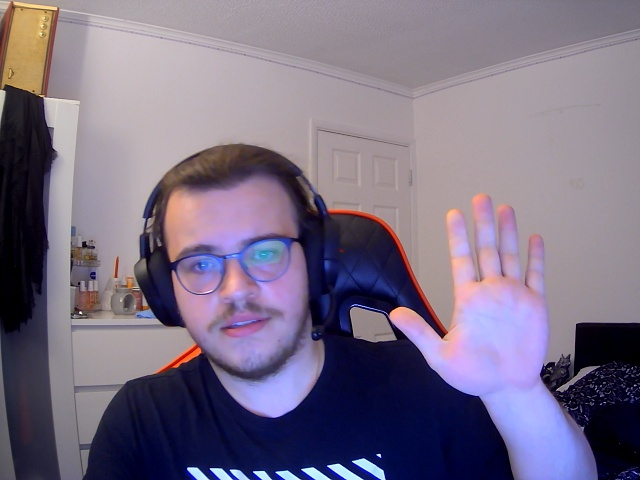Hello: (388, 192, 549, 398)
